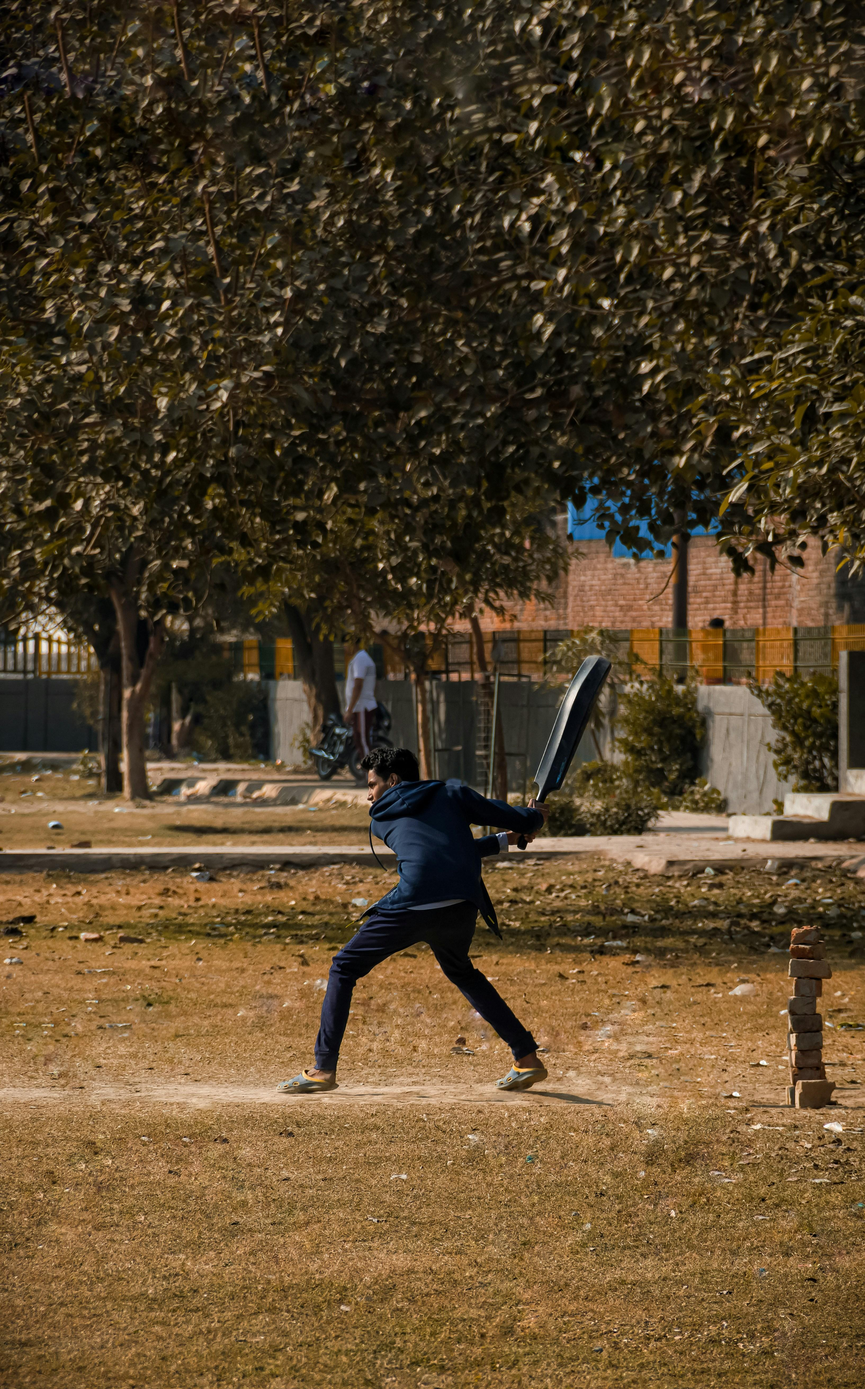batsman: (317, 739, 573, 1126)
